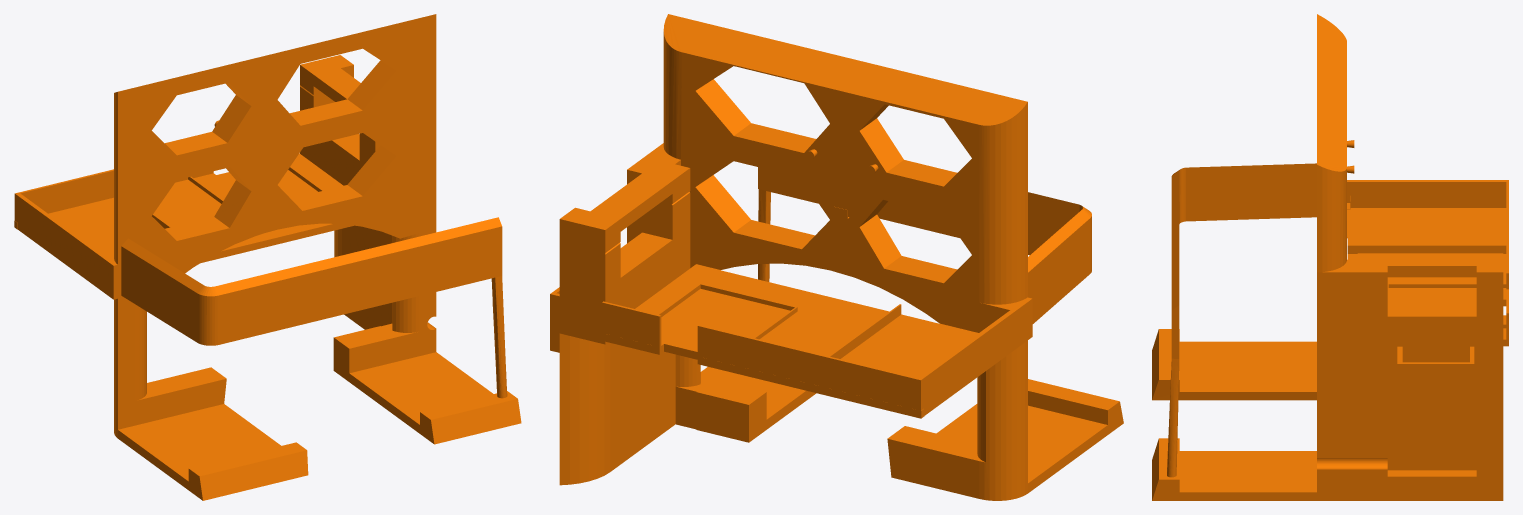
File: plant-watering.glb
The picture shows the model from 3 angles, left to right: view 1: azimuth 30°, elevation 25°; view 2: azimuth 150°, elevation 25°; view 3: azimuth 270°, elevation 25°; orthographic projection. The views are drawn at different scales.
Parts seen in each view (by area): view 1: revisedhd-1; view 2: revisedhd-1; view 3: revisedhd-1.
Part boxes in pixels (x1=…): revisedhd-1: x1=14, y1=14, x2=521, y2=500; revisedhd-1: x1=550, y1=14, x2=1123, y2=500; revisedhd-1: x1=1152, y1=14, x2=1508, y2=500.
Bounding box in the file's own units: 0.1287 × 0.1232 × 0.1184.
